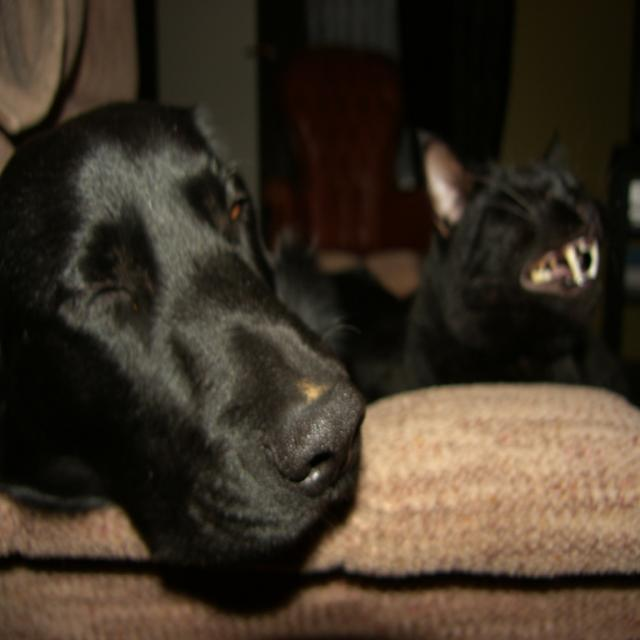Cat: (314, 126, 625, 406)
